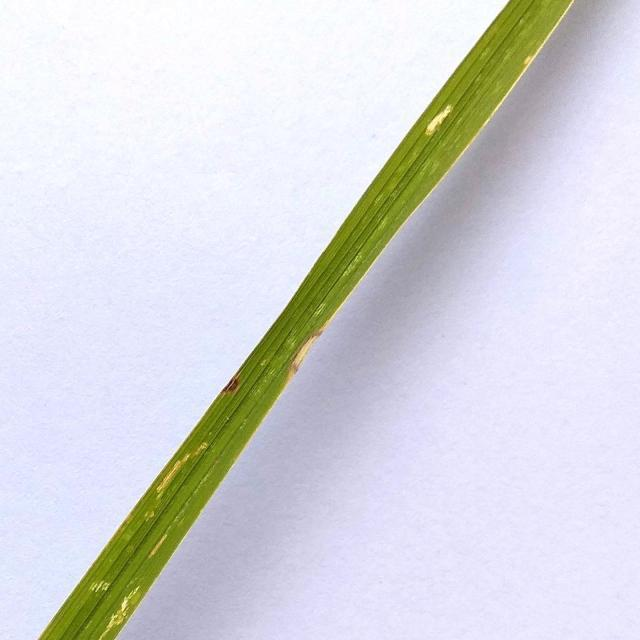Leaf_Blast: (136, 424, 221, 519), (289, 333, 335, 382), (424, 101, 459, 139)
